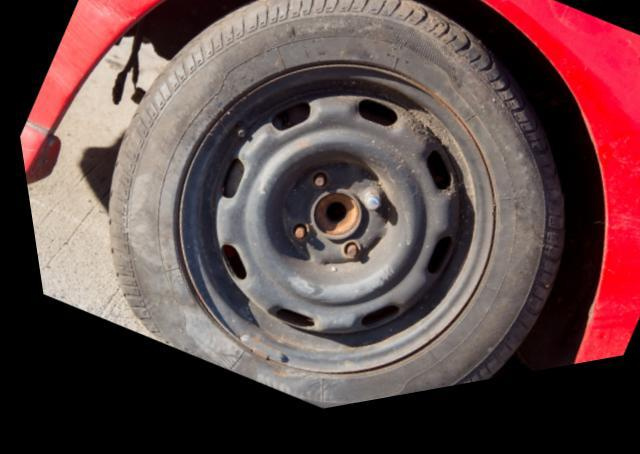tire flat: (100, 0, 555, 418)
